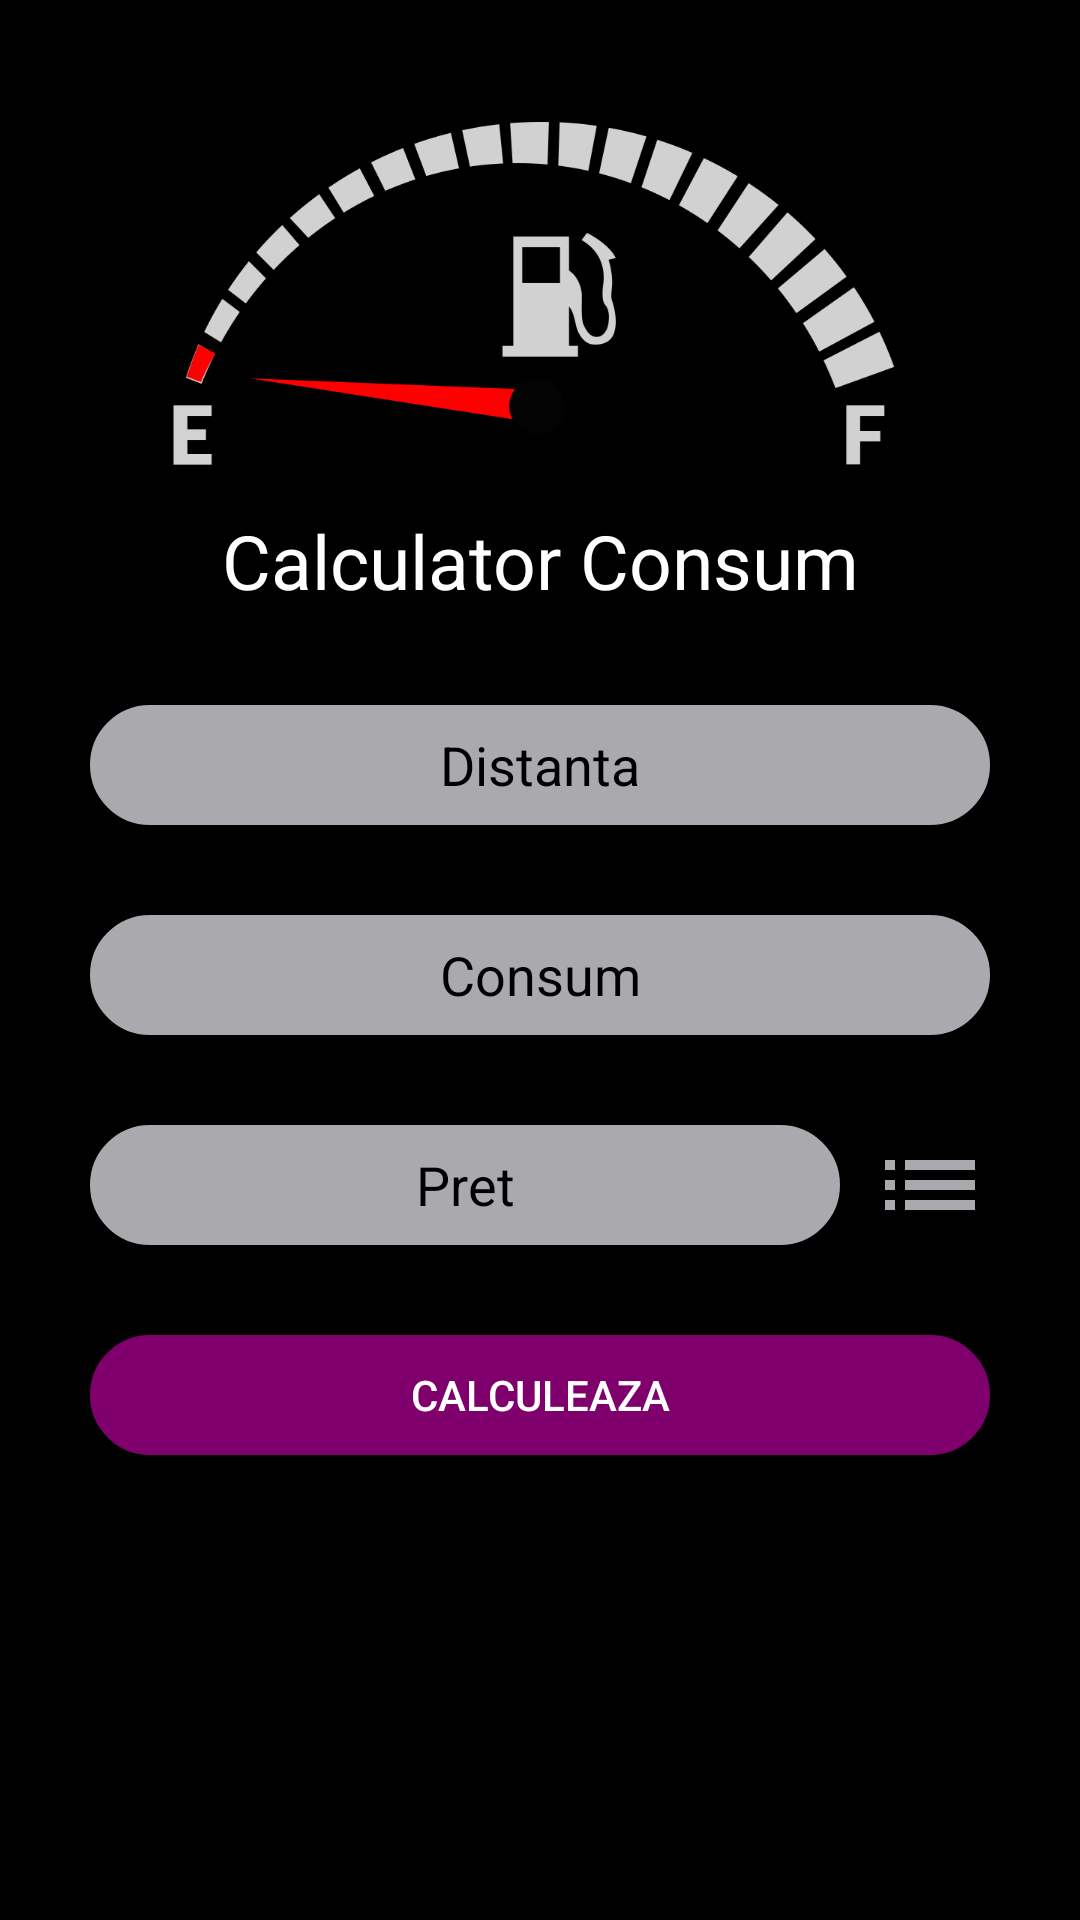

Screen size 1080px×1920px. Icon name, then its center in pixels as (x=x, y=y):
list: (x=930, y=1185)
